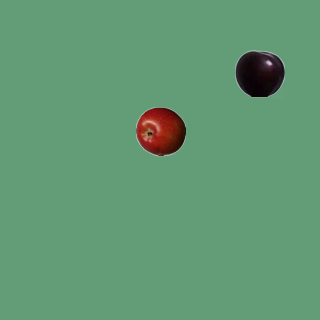Apple Braeburn: (135, 106, 185, 156)
Cherry Wax Black: (234, 48, 284, 98)
